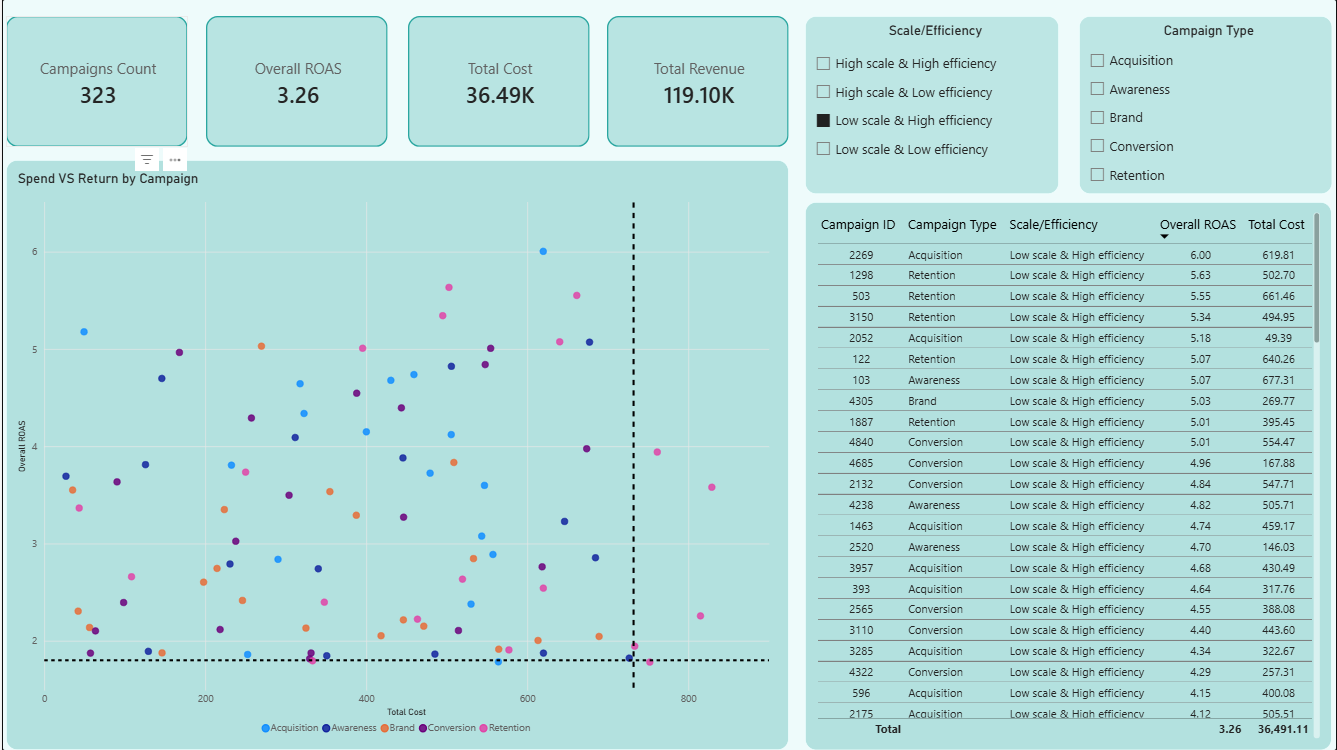

This screenshot's page, from the dashboard's own definition file:
{"tool":"powerbi","page":{"name":"Page 1","canvas":[1920,1080],"ordinal":0},"visuals":[{"type":"scatterChart","title":"Spend VS Return by Campaign","fields":{"X":["_measures.Total Cost"],"Category":["campaigns.campaign_id"],"Series":["campaigns.campaign_type"],"Y":["_measures.Overall ROAS"]},"box":[5.7,231.4,1125.3,847.9],"z":0},{"type":"slicer","title":"Campaign Type","fields":{"Values":["campaigns.campaign_type"]},"box":[1547.8,24.4,363.6,255.8],"z":1000},{"type":"tableEx","fields":{"Values":["campaign_performance.campaign_id","campaigns.campaign_type","campaign_performance.scale_efficiency","_measures.Overall ROAS","_measures.Total Cost"]},"box":[1154,291.7,757.4,787.5],"z":2000},{"type":"slicer","title":"Scale/Efficiency","fields":{"Values":["campaign_performance.scale_efficiency"]},"box":[1154,24.4,365,255.8],"z":3000},{"type":"cardVisual","fields":{"Data":["_measures.Total Revenue"]},"box":[869.5,24.4,261.6,188.3],"z":4000},{"type":"cardVisual","fields":{"Data":["_measures.Total Cost"]},"box":[583.5,24.4,261.6,188.3],"z":5000},{"type":"cardVisual","fields":{"Data":["_measures.Campaign Count"]},"box":[5.7,24.4,261.6,188.3],"z":6000},{"type":"cardVisual","fields":{"Data":["_measures.Overall ROAS"]},"box":[293.2,24.4,261.6,188.3],"z":7000}]}

Visuals, with their boxes in screenshot pixels (x1, y1, x2, y2), scaled from the page's 1920x1080 canvas onto the 1337x750 screenshot:
"Spend VS Return by Campaign" scatterChart: 4, 161, 788, 749
"Campaign Type" slicer: 1078, 17, 1331, 195
tableEx - campaign_performance.campaign_id x campaigns.campaign_type: 804, 203, 1331, 749
"Scale/Efficiency" slicer: 804, 17, 1058, 195
cardVisual - _measures.Total Revenue: 605, 17, 788, 148
cardVisual - _measures.Total Cost: 406, 17, 588, 148
cardVisual - _measures.Campaign Count: 4, 17, 186, 148
cardVisual - _measures.Overall ROAS: 204, 17, 386, 148
